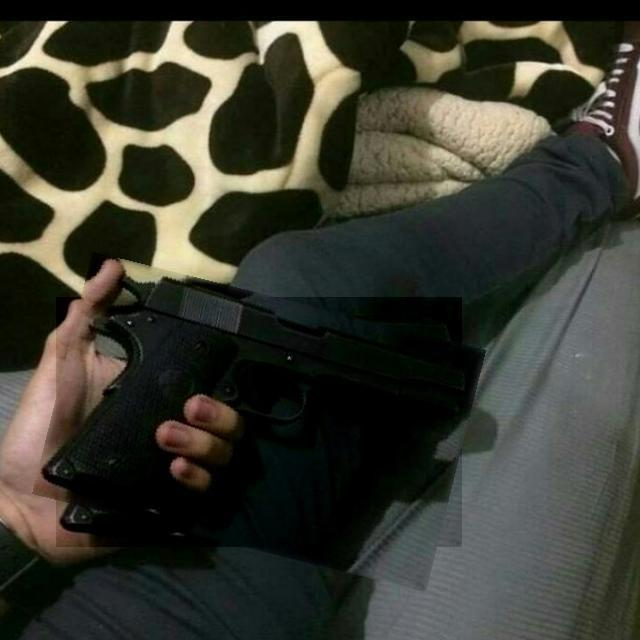handgun: (44, 274, 474, 570)
